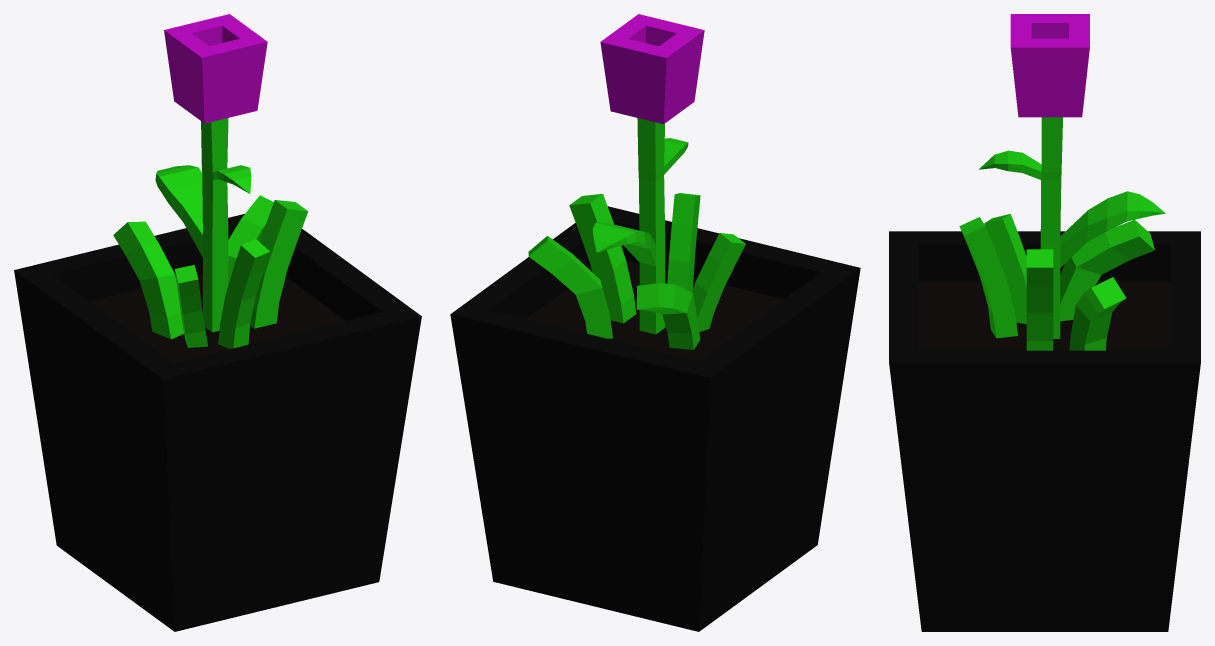
The model's file is FBX_Flower_B.fbx.
3 renders of one model, left to right at view 1: azimuth 30°, elevation 25°; view 2: azimuth 150°, elevation 25°; view 3: azimuth 270°, elevation 25°, orthographic. The views are drawn at different scales.
Parts seen in each view (by area): view 1: Flower_B; view 2: Flower_B; view 3: Flower_B.
Part boxes in pixels (bbox=[...]): Flower_B: bbox=[14, 14, 421, 631]; Flower_B: bbox=[450, 14, 860, 631]; Flower_B: bbox=[889, 14, 1200, 631].
Bounding box in the file's own units: 0.6 × 1.17 × 0.6.
